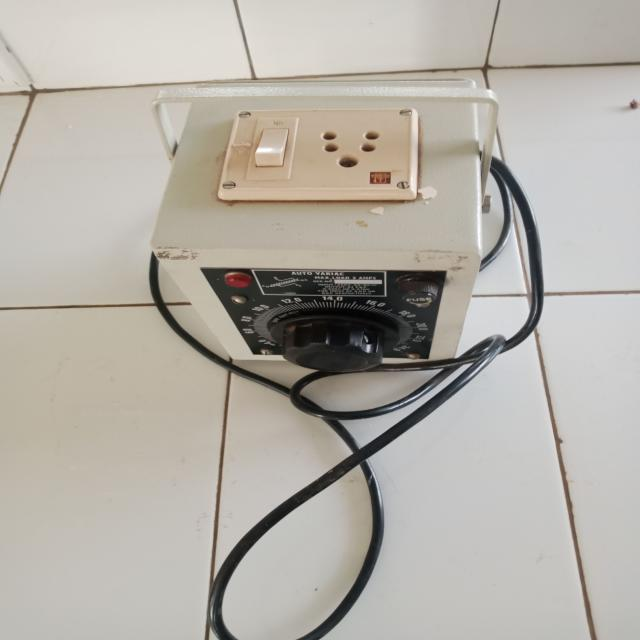Auto Variac AC Transformer 0-280 V: (145, 89, 508, 387)
